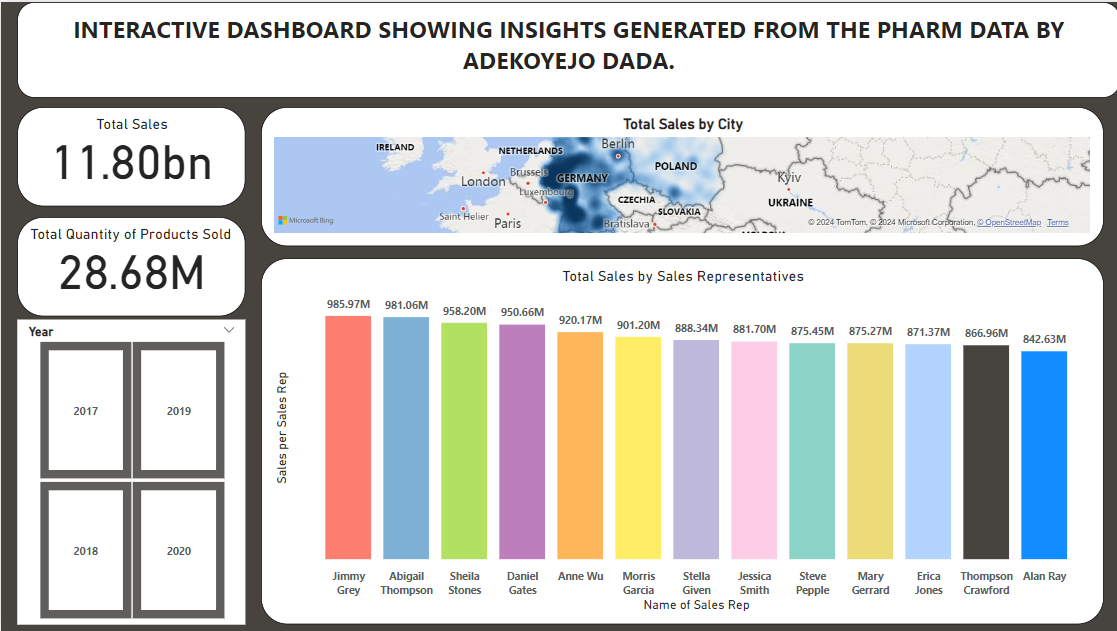

This screenshot's page, from the dashboard's own definition file:
{"tool":"powerbi","page":{"name":"Page 1","canvas":[1280,720],"ordinal":0},"visuals":[{"type":"card","title":"Total Sales","fields":{"Values":["FactSales.SumOfSales"]},"box":[19.2,119.4,260.7,113.9],"z":0},{"type":"clusteredColumnChart","title":"Total Sales by Sales Representatives","fields":{"Category":["DimSalesRep.Name of Sales Rep"],"Y":["DimSalesRep.Sales per Sales Rep"]},"box":[297.8,292.3,963.3,418.5],"z":1},{"type":"card","title":"Total Quantity of Products Sold","fields":{"Values":["FactSales.Quantity"]},"box":[19.2,245.6,260.7,113.9],"z":2},{"type":"map","title":"Total Sales by City","fields":{"Size":["FactSales.Sales"],"Category":["FactSales.City"]},"box":[297.8,119.4,963.3,159.2],"z":3},{"type":"slicer","fields":{"Values":["DimYear.Year"]},"box":[19.2,362.3,260.7,348.5],"z":4},{"type":"textbox","box":[19.2,0,1261.1,109.8],"z":5}]}

Visuals, with their boxes in screenshot pixels (x1, y1, x2, y2), scaled from the page's 1280x720 canvas onto the 1117x631 screenshot:
"Total Sales" card: {"left": 17, "top": 105, "right": 244, "bottom": 204}
"Total Sales by Sales Representatives" clusteredColumnChart: {"left": 260, "top": 256, "right": 1101, "bottom": 623}
"Total Quantity of Products Sold" card: {"left": 17, "top": 215, "right": 244, "bottom": 315}
"Total Sales by City" map: {"left": 260, "top": 105, "right": 1101, "bottom": 244}
slicer - DimYear.Year: {"left": 17, "top": 318, "right": 244, "bottom": 623}
textbox: {"left": 17, "top": 0, "right": 1116, "bottom": 96}
